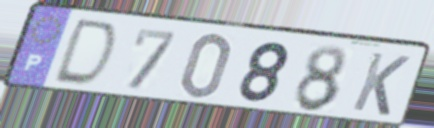0: (177, 31, 234, 101)
7: (127, 27, 179, 93)
8: (290, 43, 353, 113), (236, 40, 291, 105)
D: (48, 17, 122, 90)
K: (348, 49, 413, 118)
